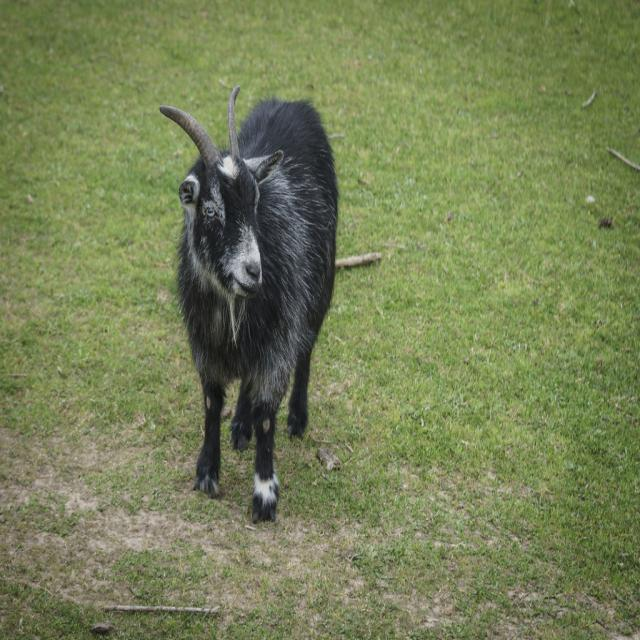Goat: (172, 80, 340, 522)
